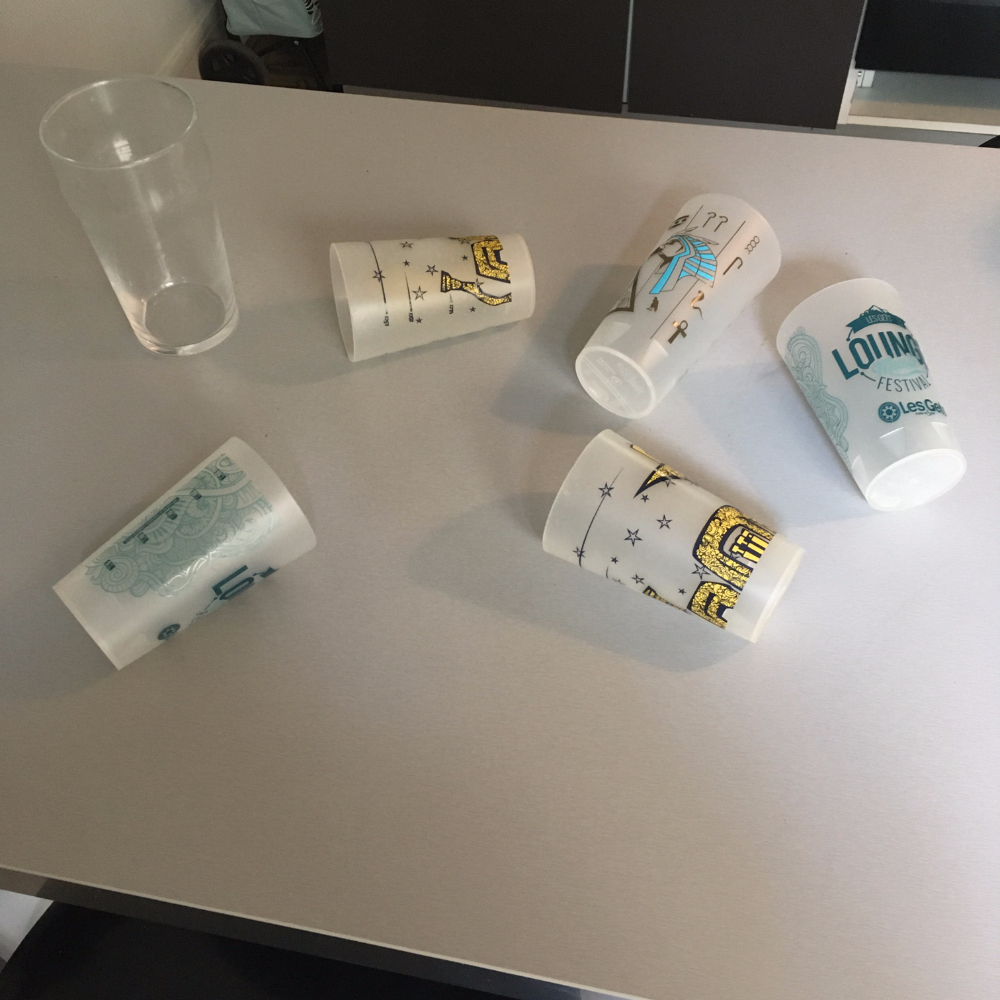ecocup: (52, 437, 316, 672), (542, 429, 803, 643), (575, 193, 781, 419), (776, 277, 966, 512), (330, 232, 535, 363)
